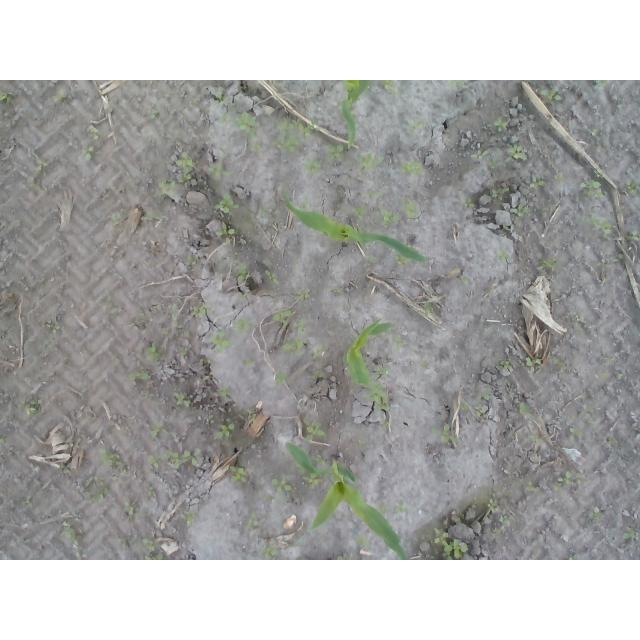Maize: (286, 440, 412, 560), (283, 193, 433, 263), (343, 319, 393, 408), (337, 81, 375, 152)
Weeds: (275, 115, 318, 156), (471, 144, 528, 168), (116, 536, 169, 561), (432, 526, 468, 560), (97, 447, 132, 479), (146, 450, 198, 470), (219, 111, 258, 137), (575, 216, 617, 240), (264, 477, 297, 506), (85, 476, 113, 503), (206, 415, 234, 441), (579, 177, 610, 200), (431, 423, 462, 445), (302, 415, 328, 441), (208, 327, 233, 354), (355, 152, 386, 173), (177, 150, 195, 185), (82, 126, 99, 161), (255, 538, 281, 560), (214, 223, 240, 245), (216, 194, 241, 214), (272, 307, 297, 326), (15, 399, 41, 417), (518, 355, 540, 376), (62, 519, 79, 546), (157, 178, 178, 198), (397, 159, 423, 175), (204, 163, 231, 178), (538, 255, 558, 275), (554, 471, 575, 490), (143, 343, 161, 365), (280, 336, 304, 352), (326, 143, 346, 162), (230, 263, 250, 282), (234, 316, 253, 336), (405, 119, 427, 136), (380, 208, 401, 225), (226, 466, 248, 482), (303, 472, 324, 488), (403, 197, 418, 219), (541, 87, 563, 102), (303, 158, 321, 176), (173, 392, 193, 408), (126, 370, 152, 382), (191, 302, 209, 319), (40, 319, 61, 333), (149, 99, 161, 122), (382, 80, 399, 96), (265, 270, 279, 289), (312, 344, 328, 360), (496, 249, 513, 264), (492, 186, 509, 201), (508, 204, 529, 216), (245, 512, 258, 531), (184, 510, 199, 526), (0, 88, 16, 103), (397, 500, 412, 516), (529, 175, 545, 190), (124, 504, 141, 518), (624, 528, 640, 542), (295, 287, 311, 301), (35, 159, 47, 177), (495, 118, 510, 132), (144, 210, 161, 222), (446, 80, 466, 90), (351, 207, 369, 218), (144, 485, 158, 499), (150, 425, 163, 440), (313, 453, 328, 466), (355, 532, 370, 545), (486, 497, 498, 513), (293, 318, 305, 334), (552, 356, 566, 369), (56, 87, 69, 101), (626, 180, 640, 193), (625, 228, 640, 240), (575, 312, 585, 329), (378, 365, 395, 375), (186, 254, 199, 267), (19, 496, 33, 508), (497, 514, 511, 526), (463, 196, 477, 208), (519, 402, 530, 417), (255, 208, 270, 219), (554, 175, 569, 186), (239, 359, 257, 368), (608, 254, 624, 264), (104, 294, 113, 311), (499, 358, 514, 368), (526, 480, 538, 492), (335, 552, 353, 560), (367, 190, 385, 198), (274, 373, 286, 385), (395, 254, 408, 265), (218, 387, 231, 398), (250, 143, 263, 154), (479, 391, 493, 401), (329, 288, 344, 297), (528, 433, 541, 443), (395, 334, 402, 352), (475, 404, 485, 416), (569, 431, 584, 439), (464, 275, 476, 285), (61, 462, 71, 474), (216, 93, 226, 105), (595, 80, 609, 88), (425, 303, 435, 314), (298, 200, 310, 209), (592, 511, 604, 520), (607, 437, 617, 447), (112, 214, 120, 226), (375, 504, 386, 512), (368, 255, 377, 264), (460, 400, 468, 410), (591, 128, 601, 136), (616, 372, 625, 380), (420, 361, 427, 370), (0, 433, 4, 447), (568, 554, 576, 560)
